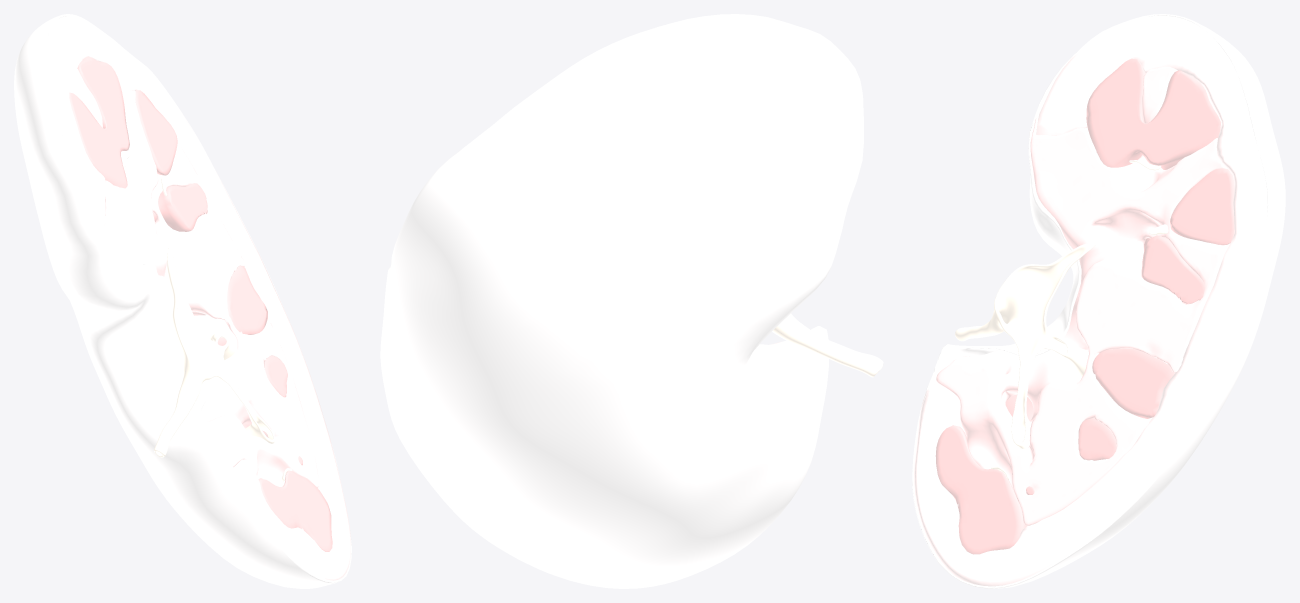
Rendered from VHF_Kidney_L_Bisected_Anterior.glb.
The picture shows the model from 3 angles, left to right: view 1: azimuth 30°, elevation 25°; view 2: azimuth 150°, elevation 25°; view 3: azimuth 270°, elevation 25°; orthographic projection. The views are drawn at different scales.
Visible parts, largest first — view 1: VHF_Kidney_L_Capsule_Anterior, VHF_Kidney_L_RenalColumns_Anterior, VHF_Kidney_L_OuterCortex_Anterior, VHF_Kidney_L_Pyramids_Anterior, VHF_Kidney_L_Calyses_Anterior; view 2: VHF_Kidney_L_Capsule_Anterior, VHF_Kidney_L_Calyses_Anterior; view 3: VHF_Kidney_L_RenalColumns_Anterior, VHF_Kidney_L_OuterCortex_Anterior, VHF_Kidney_L_Pyramids_Anterior, VHF_Kidney_L_Capsule_Anterior, VHF_Kidney_L_Calyses_Anterior.
Boxes of the visible parts, box(x1,y1,x2,y2) form: VHF_Kidney_L_Capsule_Anterior: box(14, 14, 351, 588); VHF_Kidney_L_RenalColumns_Anterior: box(75, 69, 319, 530); VHF_Kidney_L_OuterCortex_Anterior: box(47, 16, 351, 580); VHF_Kidney_L_Pyramids_Anterior: box(69, 57, 332, 551); VHF_Kidney_L_Calyses_Anterior: box(121, 146, 292, 481); VHF_Kidney_L_Capsule_Anterior: box(380, 14, 863, 588); VHF_Kidney_L_Calyses_Anterior: box(772, 313, 883, 377); VHF_Kidney_L_RenalColumns_Anterior: box(936, 66, 1229, 525); VHF_Kidney_L_OuterCortex_Anterior: box(913, 15, 1267, 586); VHF_Kidney_L_Pyramids_Anterior: box(935, 58, 1234, 554); VHF_Kidney_L_Capsule_Anterior: box(912, 14, 1285, 588); VHF_Kidney_L_Calyses_Anterior: box(955, 159, 1168, 479).
Size of the model in its own units: 0.7548 by 1.28 by 0.8835.
